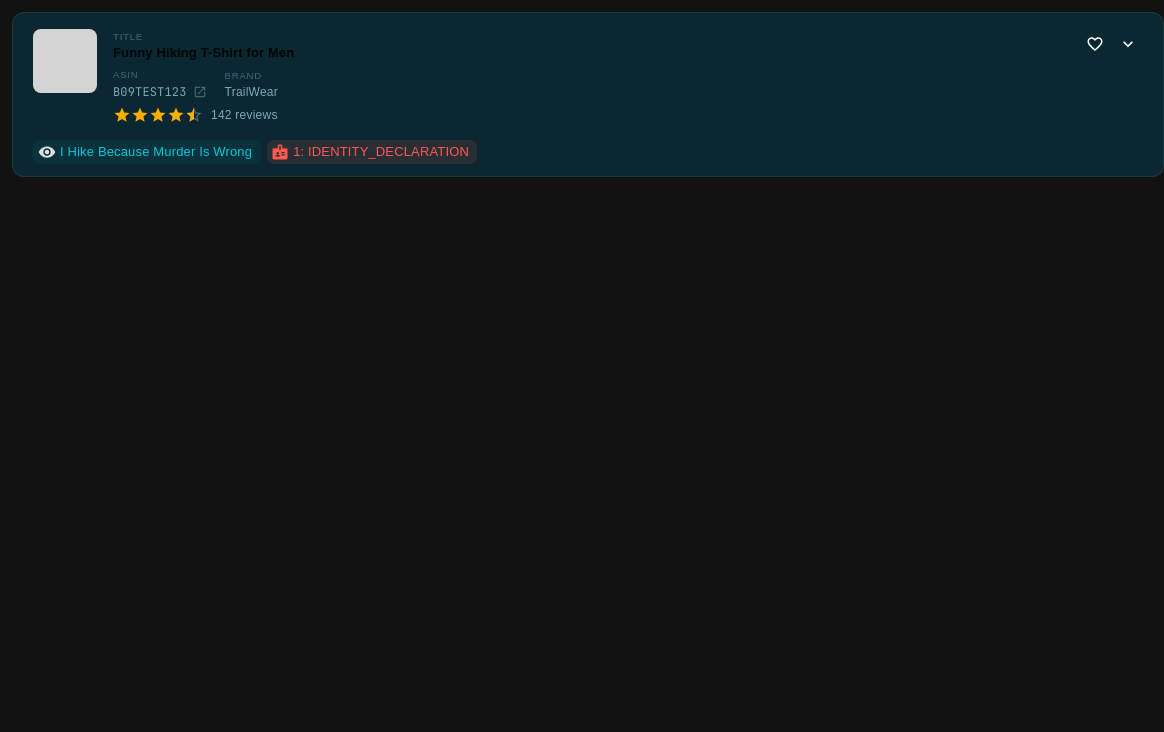
Test case: ProductAnalysisCard › expands to show detailed analysis on click
The width and height of the screenshot is (1164, 732).
// Click expand
Click the button named "expand": [1128, 44] box x1=1113 y1=29 x2=1143 y2=59
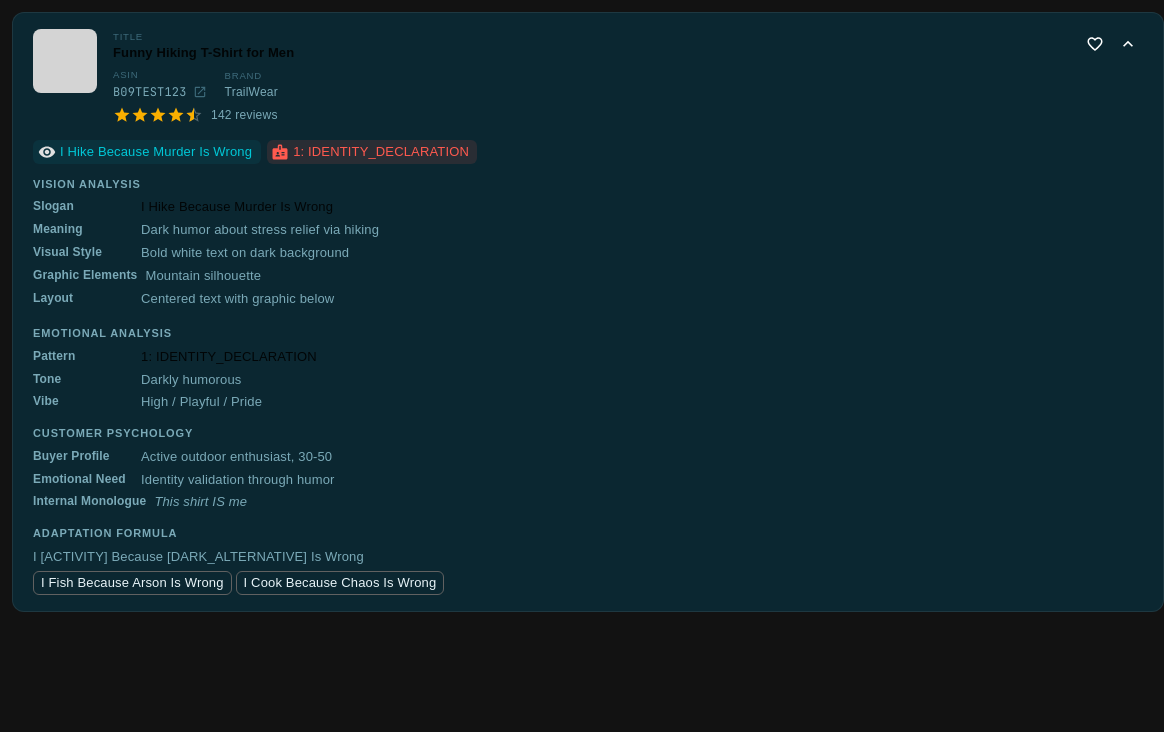
Expected: the text "Dark humor about stress relief via hiking" is shown, x1=141 y1=220 x2=379 y2=241
Expected: the text "Bold white text on dark background" is shown, x1=141 y1=243 x2=349 y2=264
Expected: the text "Mountain silhouette" is shown, x1=145 y1=266 x2=261 y2=286
